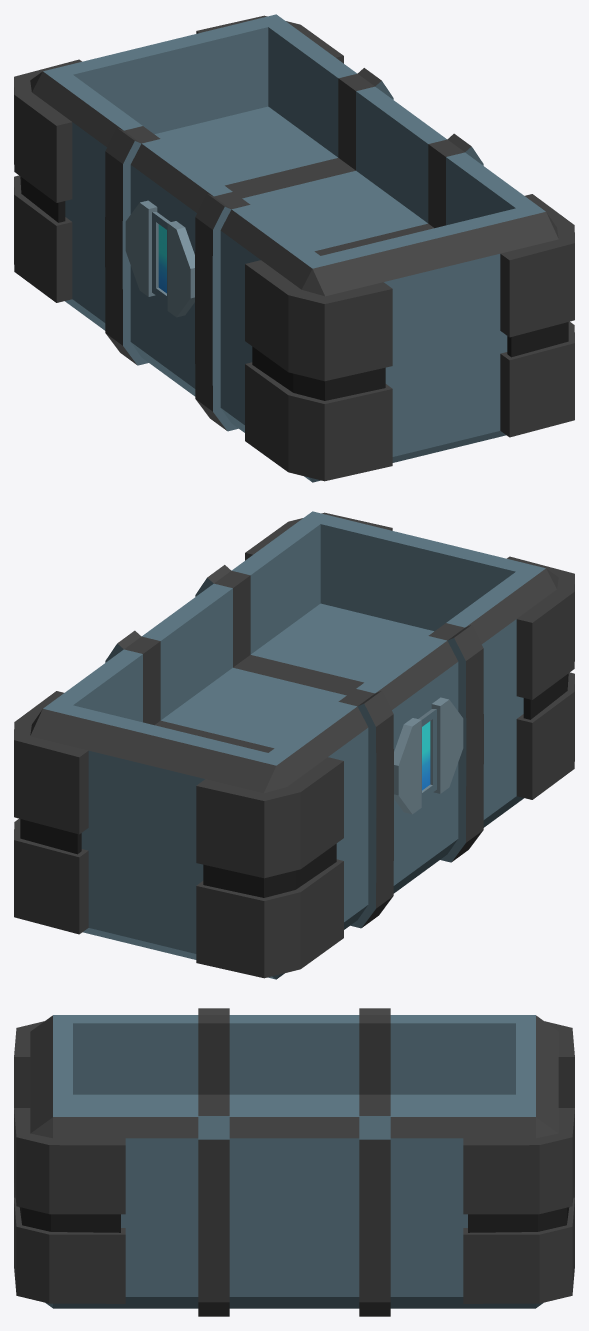
The model's file is Baul.fbx.
3 renders of one model, top to bottom at view 1: azimuth 30°, elevation 25°; view 2: azimuth 150°, elevation 25°; view 3: azimuth 270°, elevation 25°, orthographic. The views are drawn at different scales.
Parts seen in each view (by area): view 1: Vault.005; view 2: Vault.005; view 3: Vault.005.
Boxes of the visible parts, x1,y1,x2,y2 form: Vault.005: (14, 14, 574, 482); Vault.005: (14, 511, 574, 979); Vault.005: (14, 1008, 574, 1316).
Size of the model in its own units: 0.5089 by 0.3816 by 0.9613.
